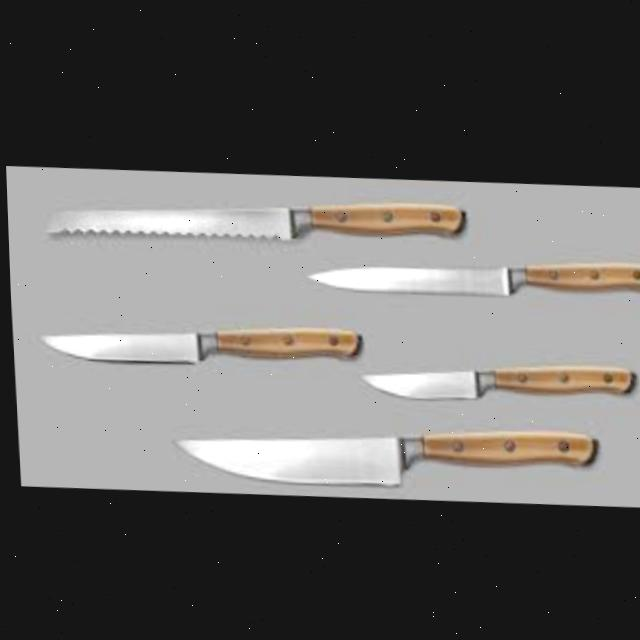knife: (167, 409, 598, 493), (40, 181, 466, 250), (34, 310, 361, 372), (304, 241, 640, 299), (354, 346, 634, 403)
